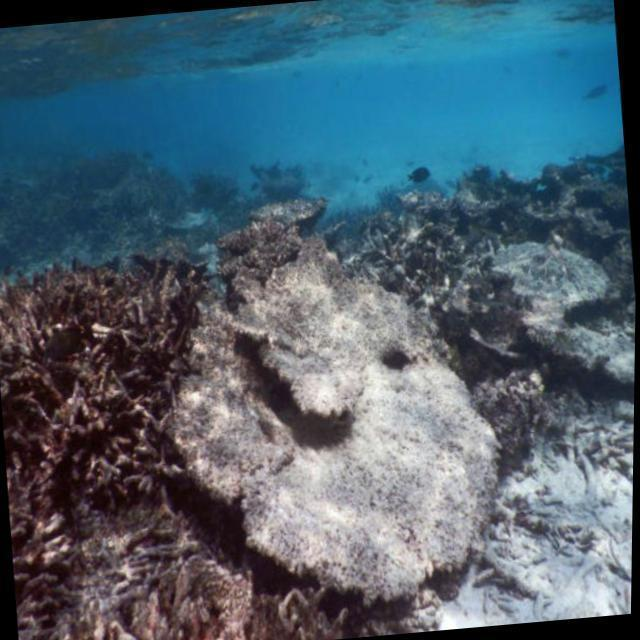Dead Coral: (0, 197, 520, 640), (194, 202, 496, 637), (0, 244, 217, 640), (489, 396, 636, 620), (400, 212, 495, 304)
